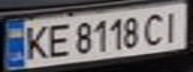1: (90, 16, 112, 52), (106, 15, 127, 51)
8: (121, 14, 145, 50), (72, 18, 93, 55)
C: (139, 10, 169, 46)
E: (42, 20, 72, 60)
I: (157, 7, 187, 43)
K: (18, 21, 51, 61)
